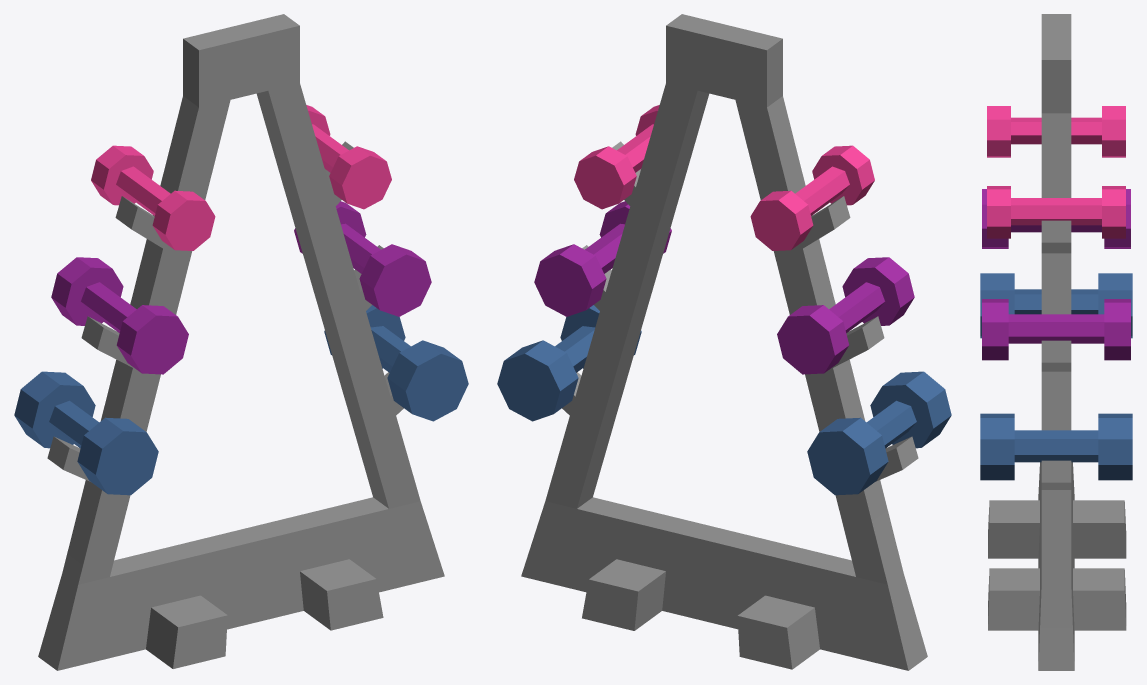
File: Sportsground_04.fbx
3 views of the same model, side by side, from view 1: azimuth 30°, elevation 25°; view 2: azimuth 150°, elevation 25°; view 3: azimuth 270°, elevation 25° (orthographic). The views are drawn at different scales.
Parts seen in each view (by area): view 1: Sportsground_04; view 2: Sportsground_04; view 3: Sportsground_04.
Boxes of the visible parts, bbox=[...] form: Sportsground_04: bbox=[14, 14, 468, 670]; Sportsground_04: bbox=[497, 14, 951, 670]; Sportsground_04: bbox=[980, 14, 1132, 670].
Bounding box in the file's own units: 69.9 × 101 × 25.46.
